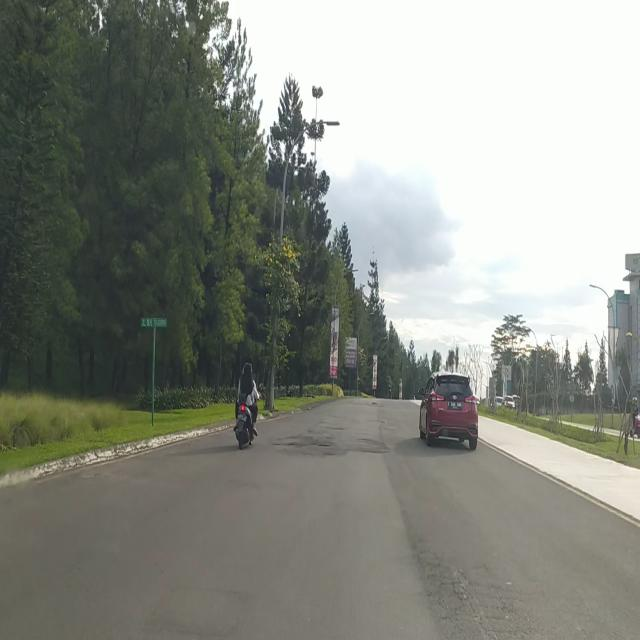Drain Hole: (408, 541, 524, 640)
